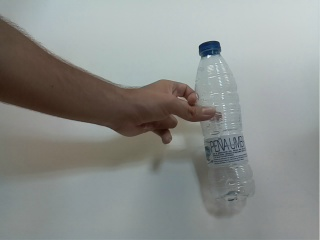botella plastico: (194, 38, 258, 205)
